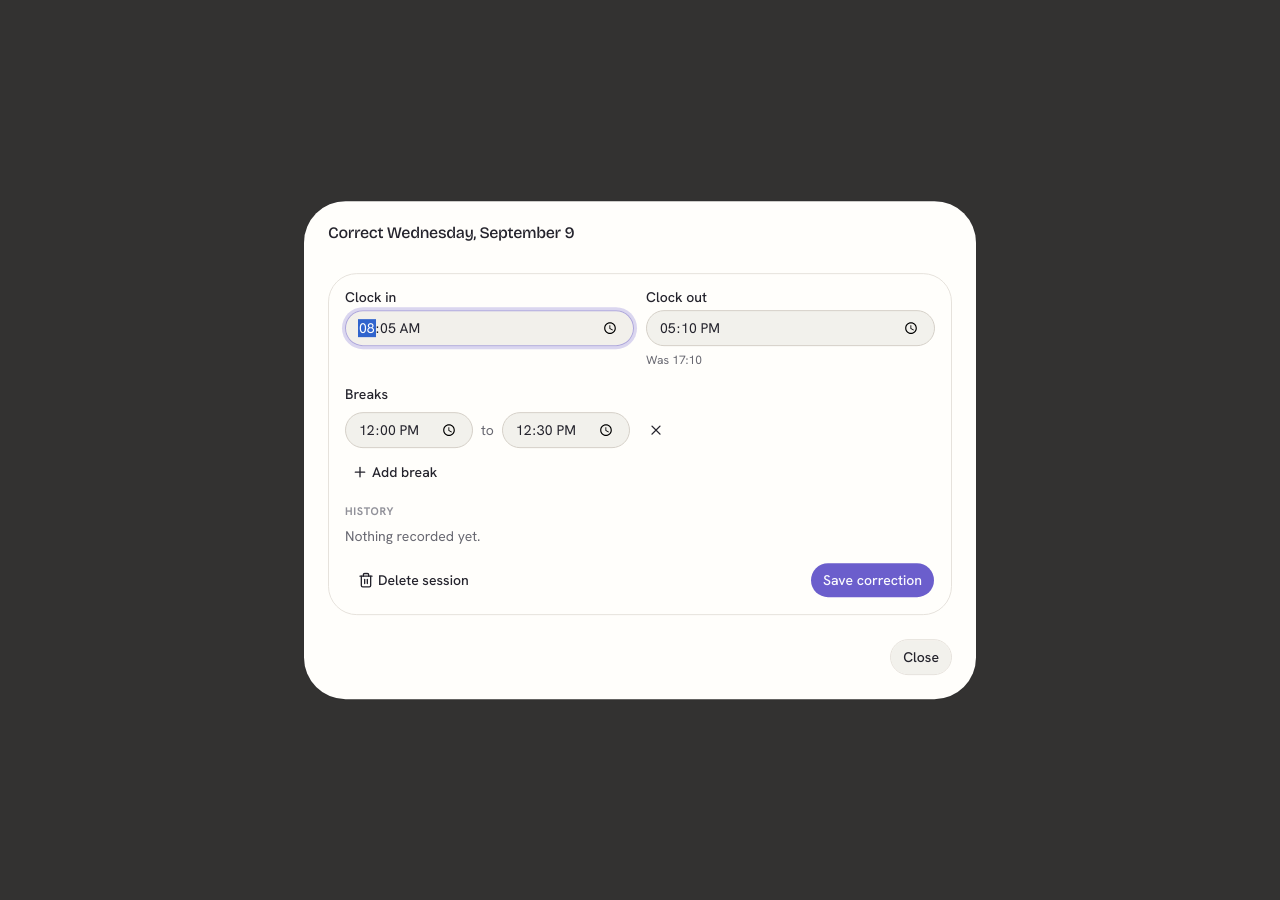
Test: CorrectionDialog › refuses a break outside its session
Clear the 1st time field named "Breaks". click: (409, 430)
box: x1=345 y1=412 x2=473 y2=448
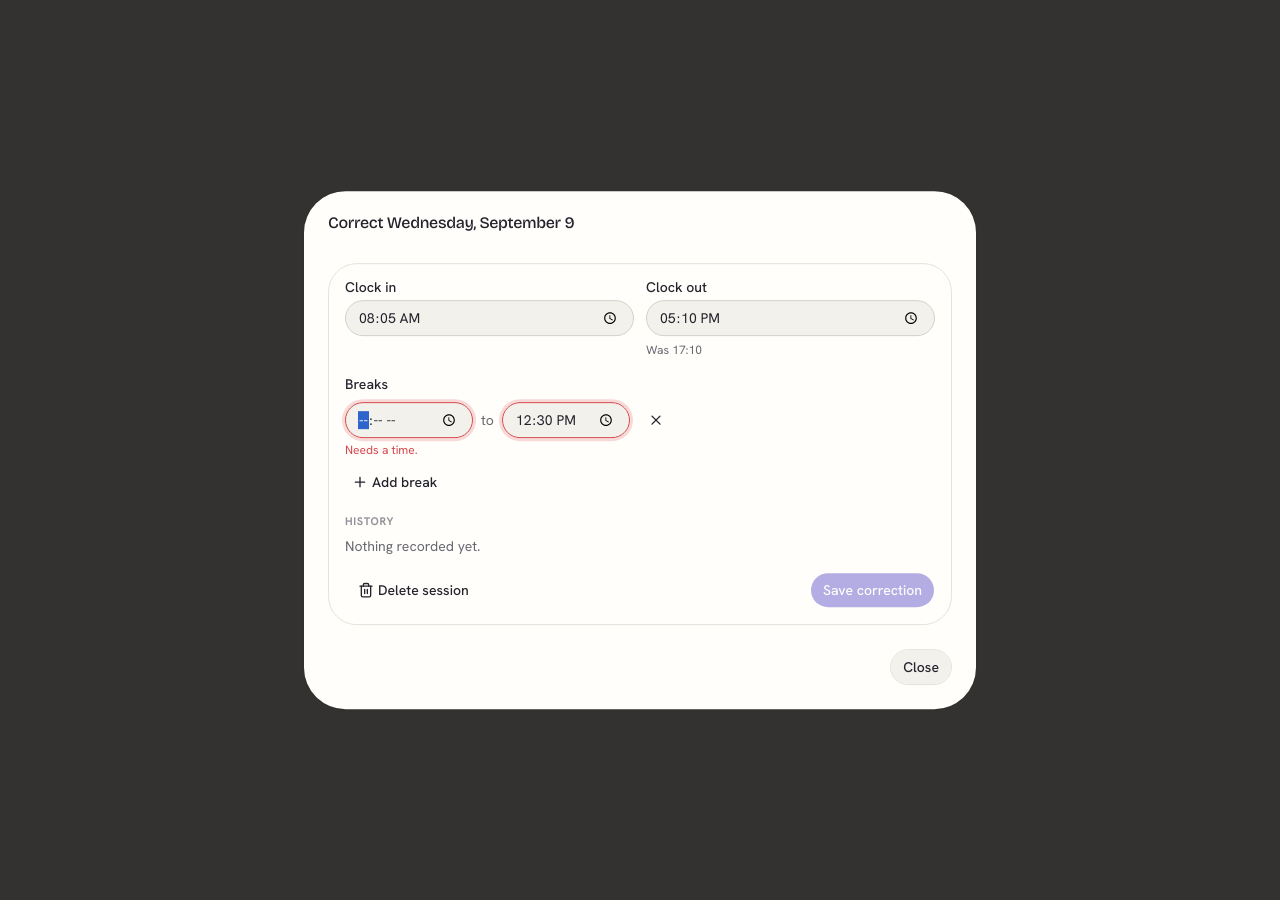
Type "07:00" into the 1st time field named "Breaks". click: (409, 420)
box: x1=345 y1=402 x2=473 y2=438
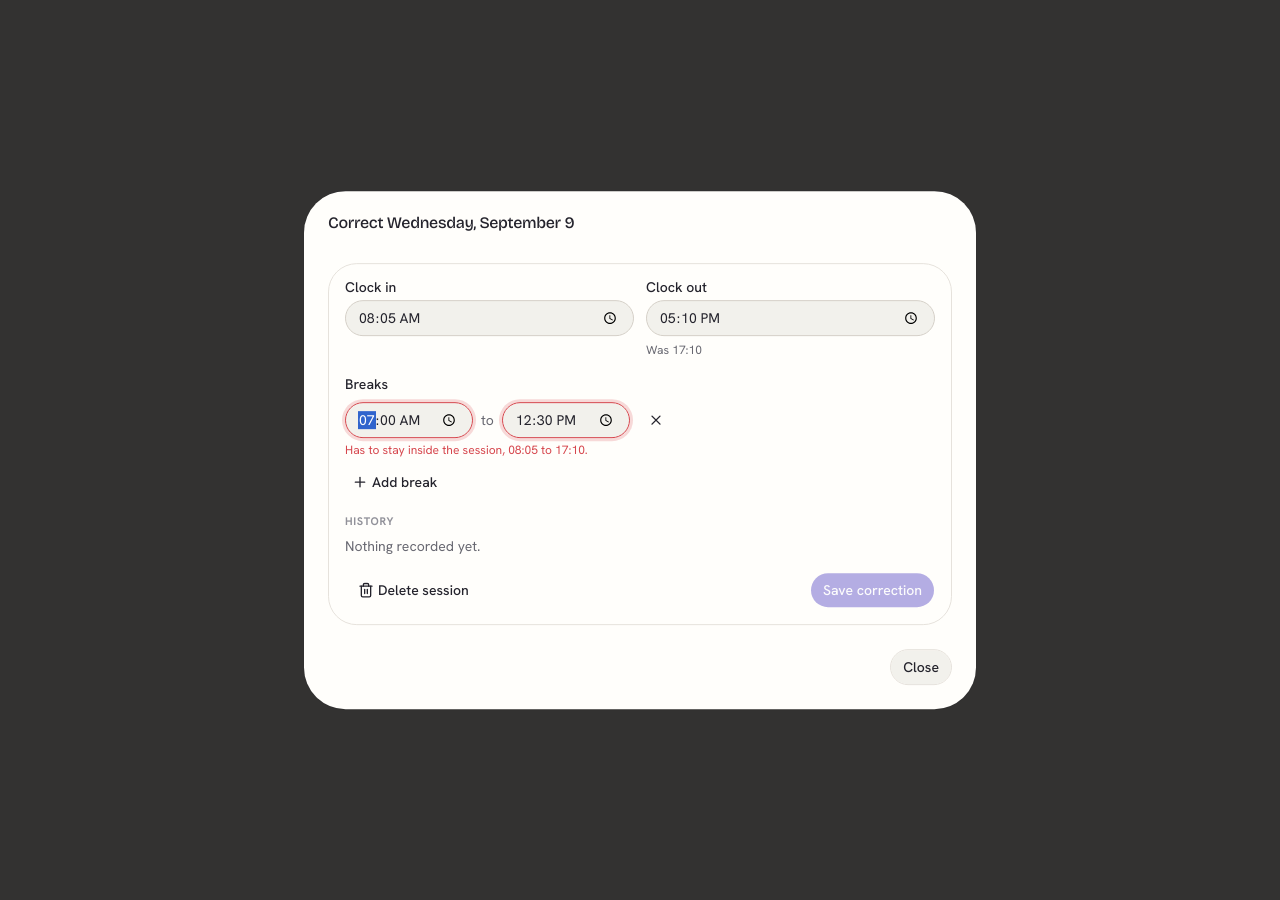
Now the button "Save correction" is disabled, box x1=810 y1=572 x2=935 y2=608
Now the text "Has to stay inside the session, 08:05 to 17:10." is shown, box x1=345 y1=442 x2=588 y2=458
